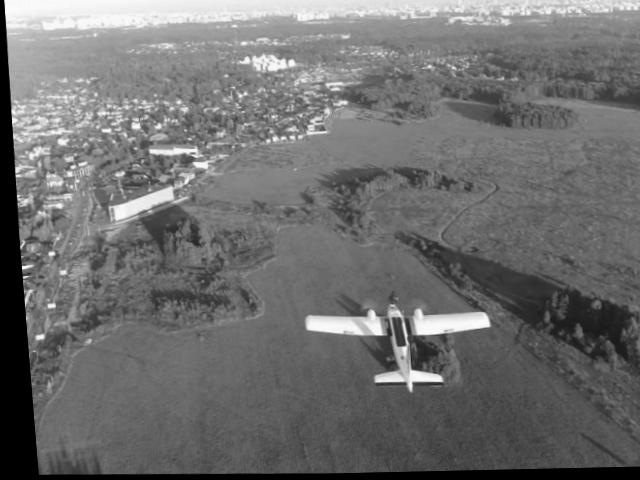hedef: (280, 287, 507, 394)
